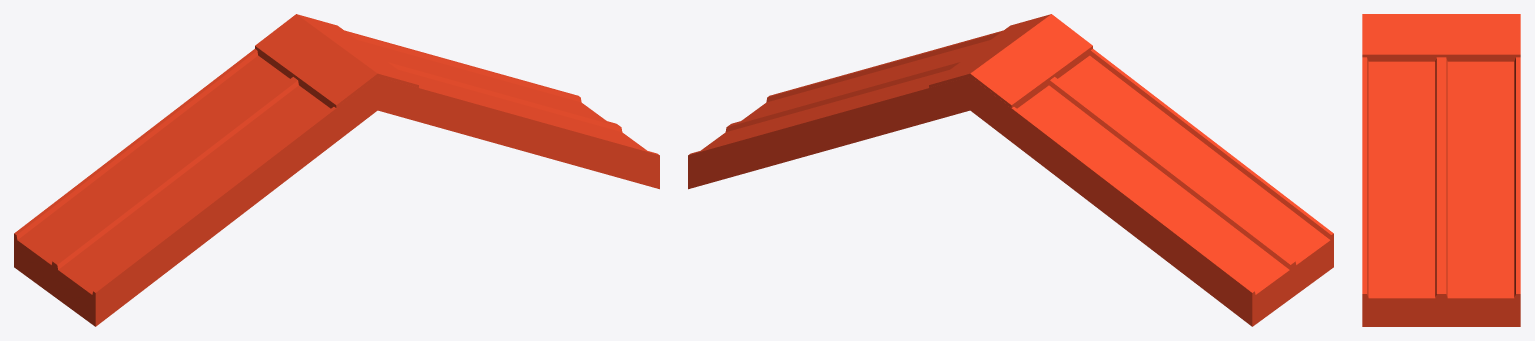
File: roof-metal-moderate-1x2m-center.fbx
3 views of the same model, side by side, from view 1: azimuth 30°, elevation 25°; view 2: azimuth 150°, elevation 25°; view 3: azimuth 270°, elevation 25° (orthographic). The views are drawn at different scales.
Parts seen in each view (by area): view 1: roof-metal-moderate-1x2m-center; view 2: roof-metal-moderate-1x2m-center; view 3: roof-metal-moderate-1x2m-center.
Boxes of the visible parts, <box> form: roof-metal-moderate-1x2m-center: <box>14,14,659,326</box>; roof-metal-moderate-1x2m-center: <box>688,14,1333,326</box>; roof-metal-moderate-1x2m-center: <box>1362,14,1520,326</box>.
Bounding box in the file's own units: 4 × 1.25 × 1.
